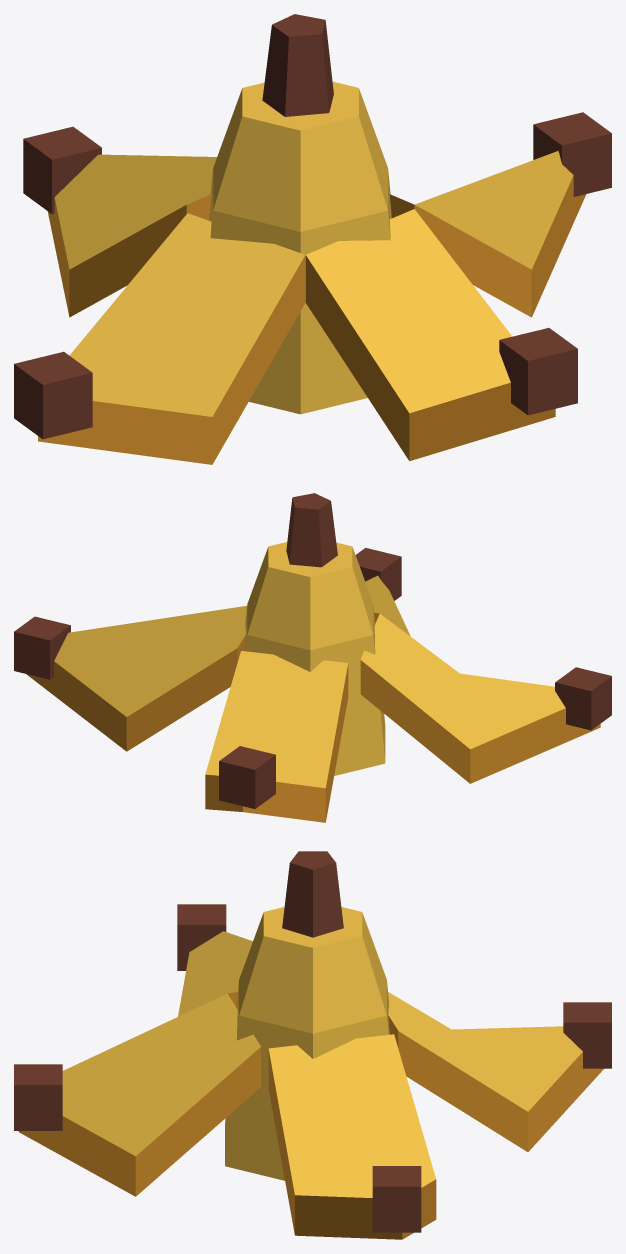
The model's file is J_BananaPeel.fbx.
3 renders of one model, top to bottom at view 1: azimuth 30°, elevation 25°; view 2: azimuth 150°, elevation 25°; view 3: azimuth 270°, elevation 25°, orthographic. The views are drawn at different scales.
Parts seen in each view (by area): view 1: J_BananaPeel; view 2: J_BananaPeel; view 3: J_BananaPeel.
Boxes of the visible parts, box(x1,y1,x2,y2) form: J_BananaPeel: box(14, 14, 611, 464); J_BananaPeel: box(14, 493, 611, 822); J_BananaPeel: box(14, 851, 611, 1239).
Bounding box in the file's own units: 0.6578 × 0.31 × 0.5889.
